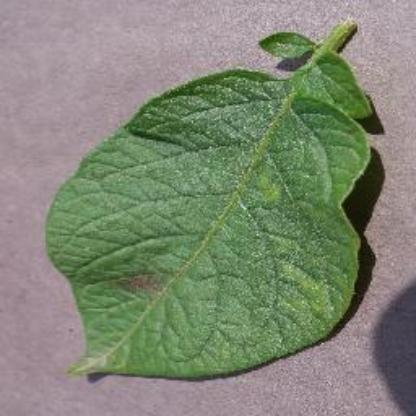Late-Blight: (38, 11, 388, 389)
